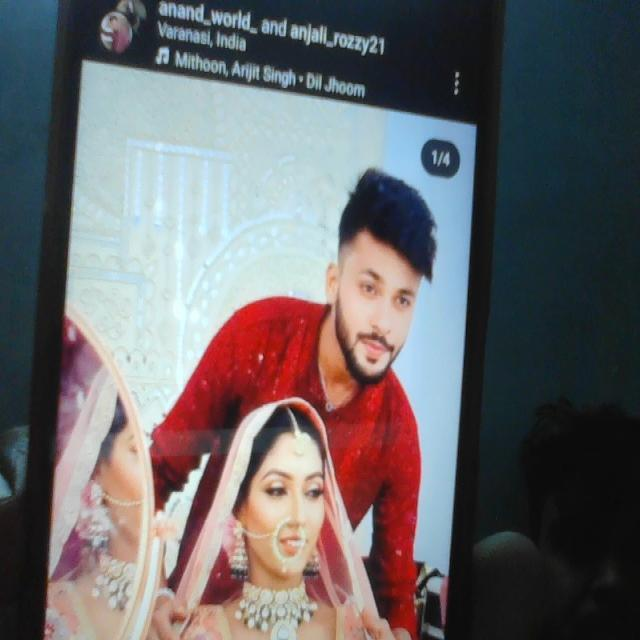fake: (326, 182, 434, 386)
